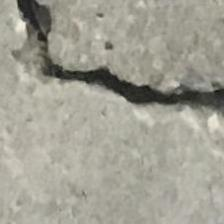Crack: (2, 0, 224, 130)
